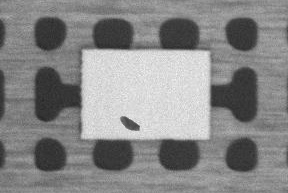DIE_INK: (176, 76, 212, 89)
